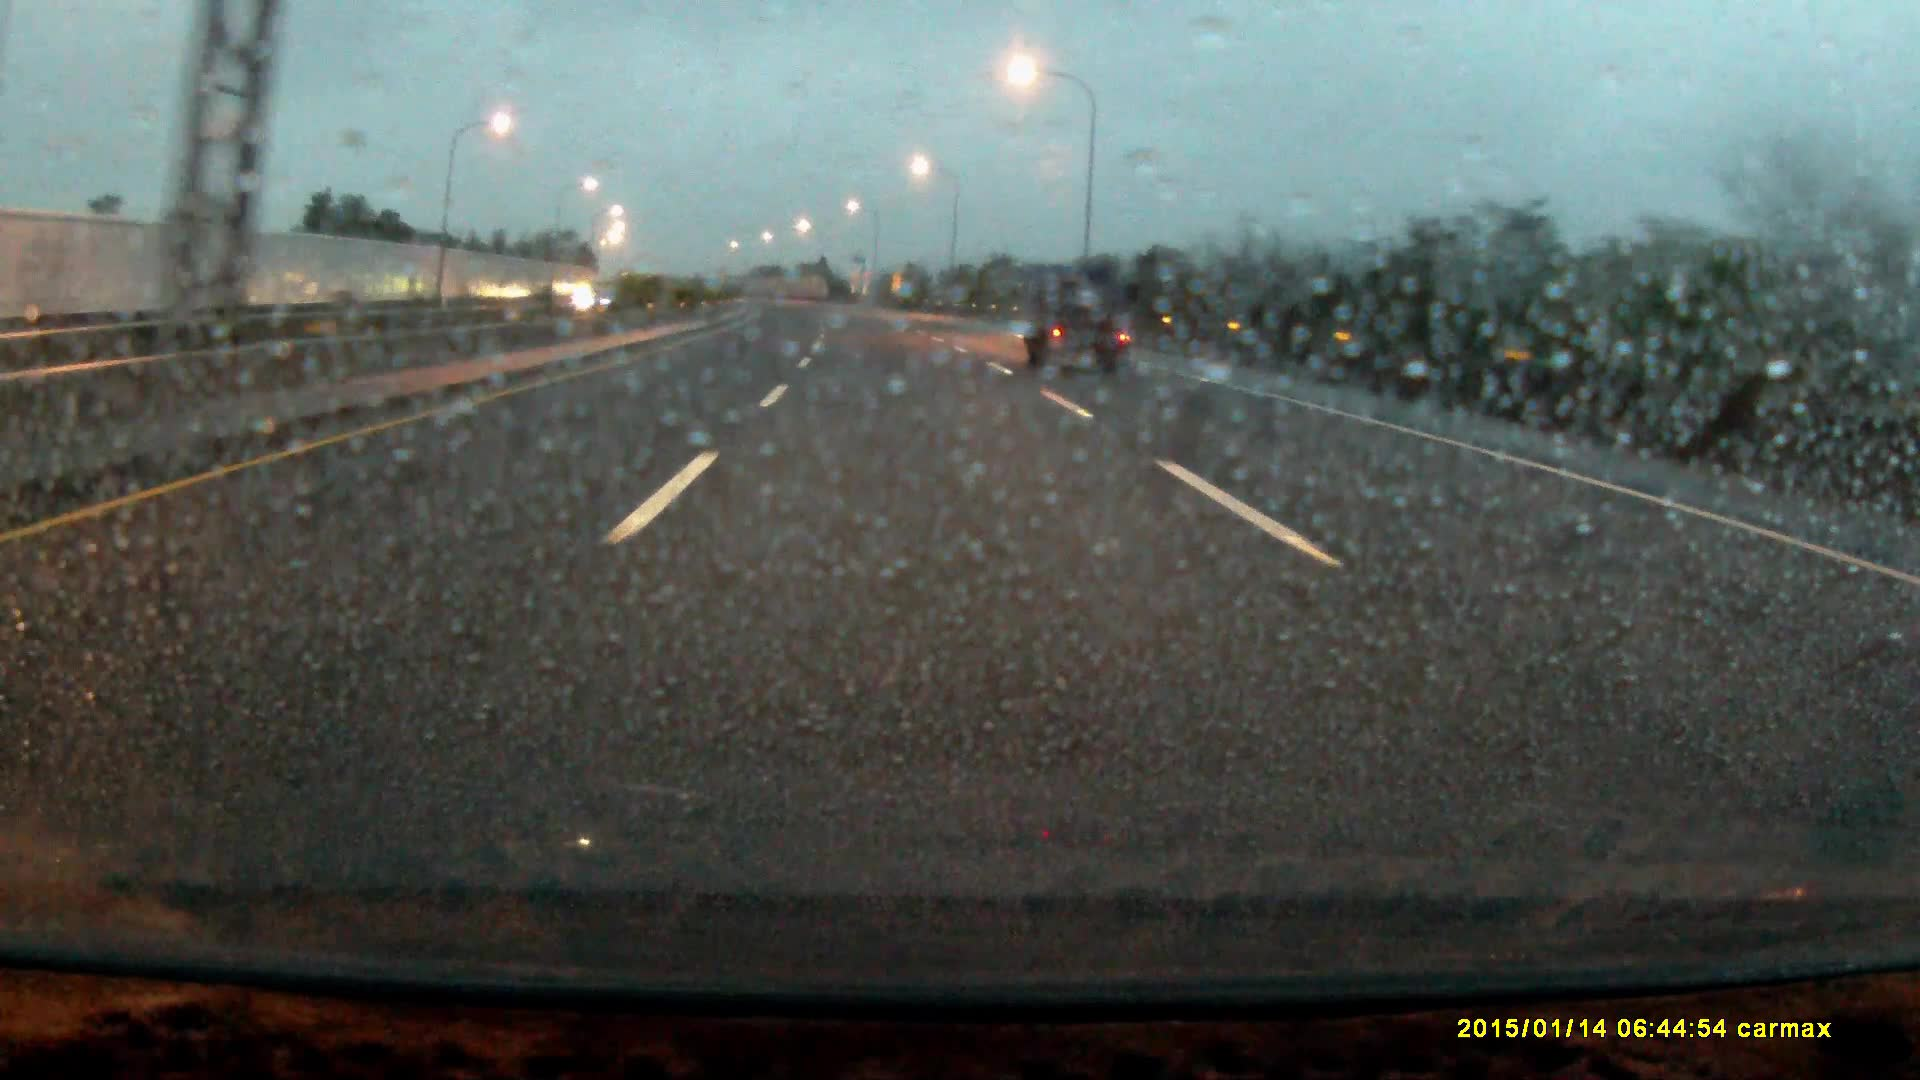vehicle: (1026, 273, 1131, 377), (556, 282, 615, 316)
